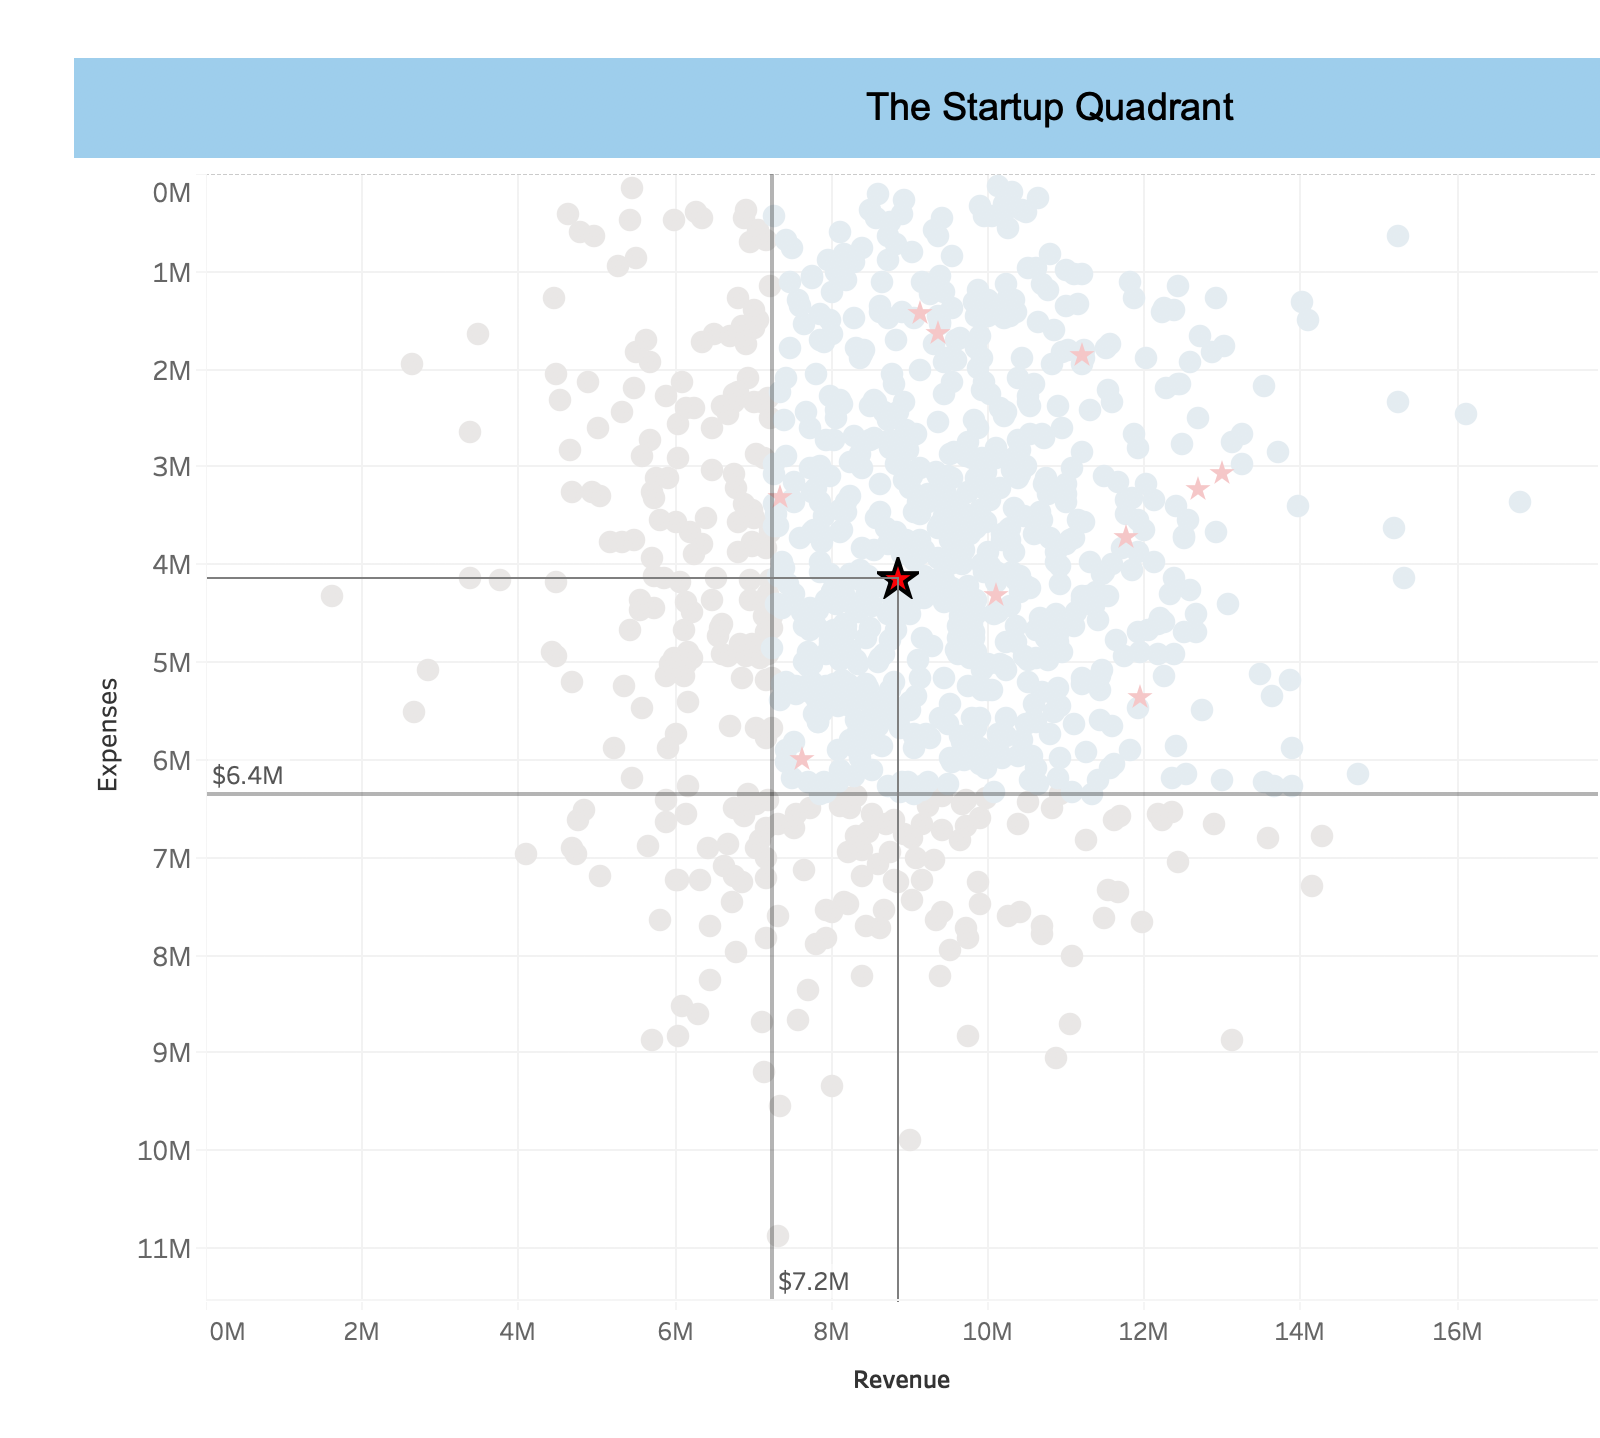

Layout of this report page (visuals, bound fields, positions):
{"tool":"tableau","page":{"name":"Dashboard 1","canvas":[1000,700],"ordinal":0},"visuals":[{"type":"text","box":[8,8,984,58]},{"type":"worksheet","title":"ScatterPlot","mark":"Shape","rows":["2015 Expenses"],"cols":["2015 Revenue"],"box":[8,66,770,626]},{"type":"parameter","param":"[Parameters].[Parameter 3]","box":[778,66,214,59]},{"type":"parameter","param":"[Parameters].[Parameter 2]","box":[778,125,214,50]},{"type":"parameter","param":"[Parameters].[Parameter 1]","box":[778,175,214,58]},{"type":"worksheet","title":"Top Growth","mark":"Square","rows":["Name"],"box":[778,233,214,459]}]}

Visuals, with their boxes on the page's 1000x700 design canvas (x1, y1, x2, y2). These are canvas units, not pixel positions in the 1600x1438 screenshot, which may show the page scaled, cropped or inside an application window:
text: (x1=8, y1=8, x2=992, y2=66)
"ScatterPlot" worksheet (Shape marks): (x1=8, y1=66, x2=778, y2=692)
parameter: (x1=778, y1=66, x2=992, y2=125)
parameter: (x1=778, y1=125, x2=992, y2=175)
parameter: (x1=778, y1=175, x2=992, y2=233)
"Top Growth" worksheet (Square marks): (x1=778, y1=233, x2=992, y2=692)
